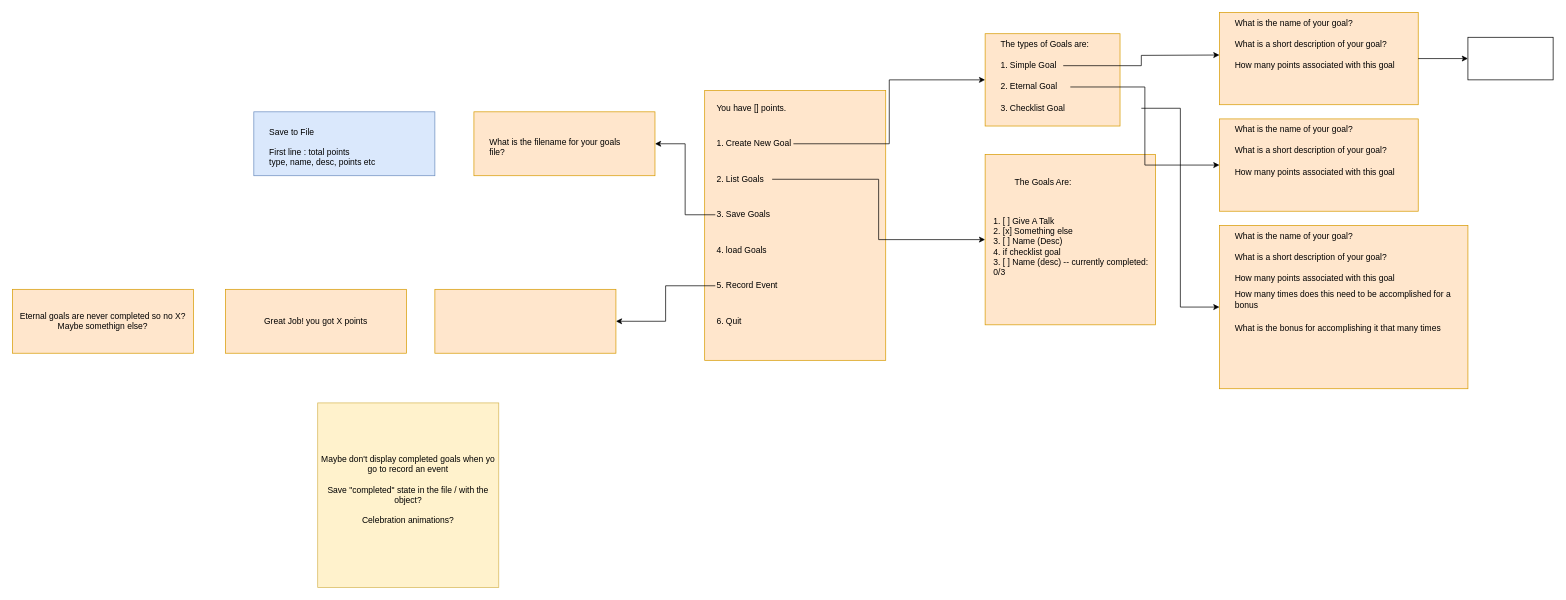
The diagram is 1566 pixels wide and 600 high, and some of its shapes have lost their labels. The shapes that lost their labels are listed below. From the top down, each one's box as (x1, y1, x2, y2) in pixels, then its label:
(1467, 37, 1553, 80): Added to List
(434, 289, 616, 353): List Goals: Which goal did you accomplish? [number]
